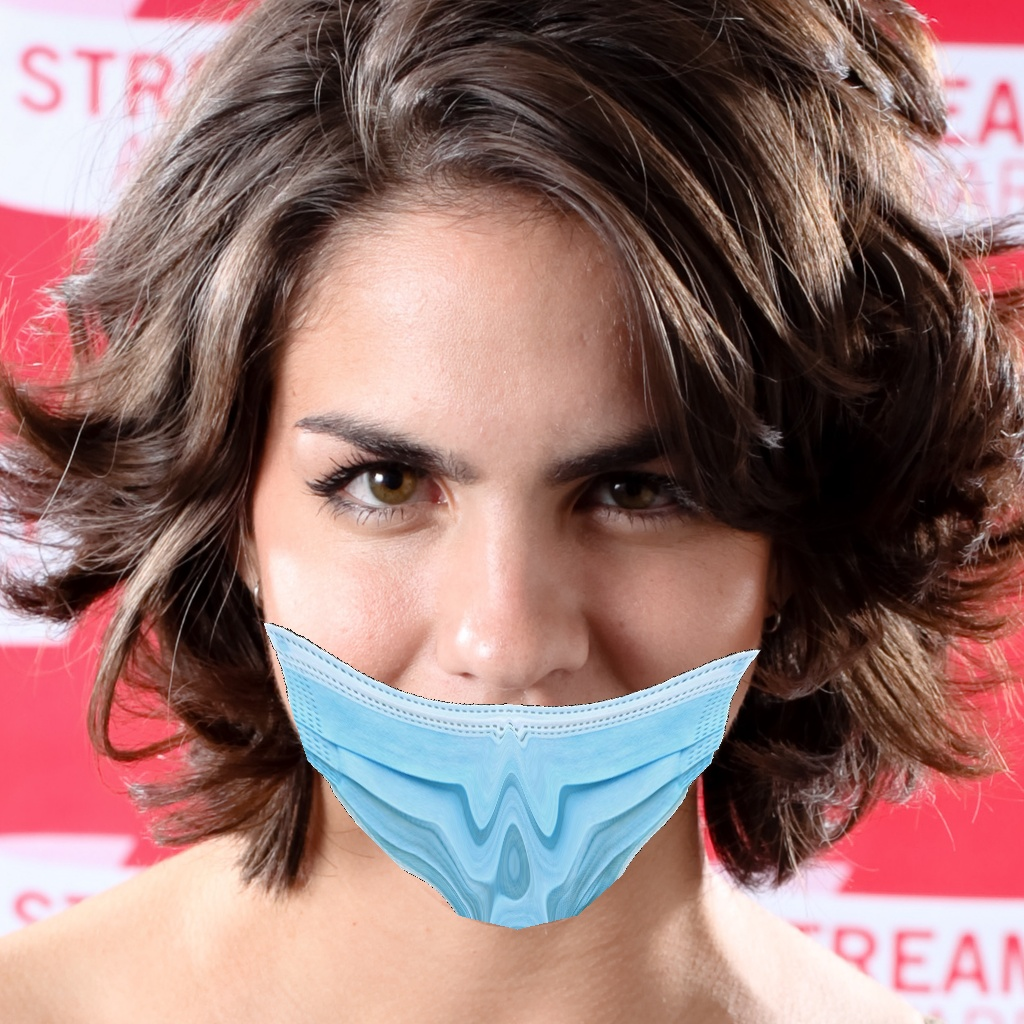mascarilla_mal_puesta: (212, 410, 794, 915)
